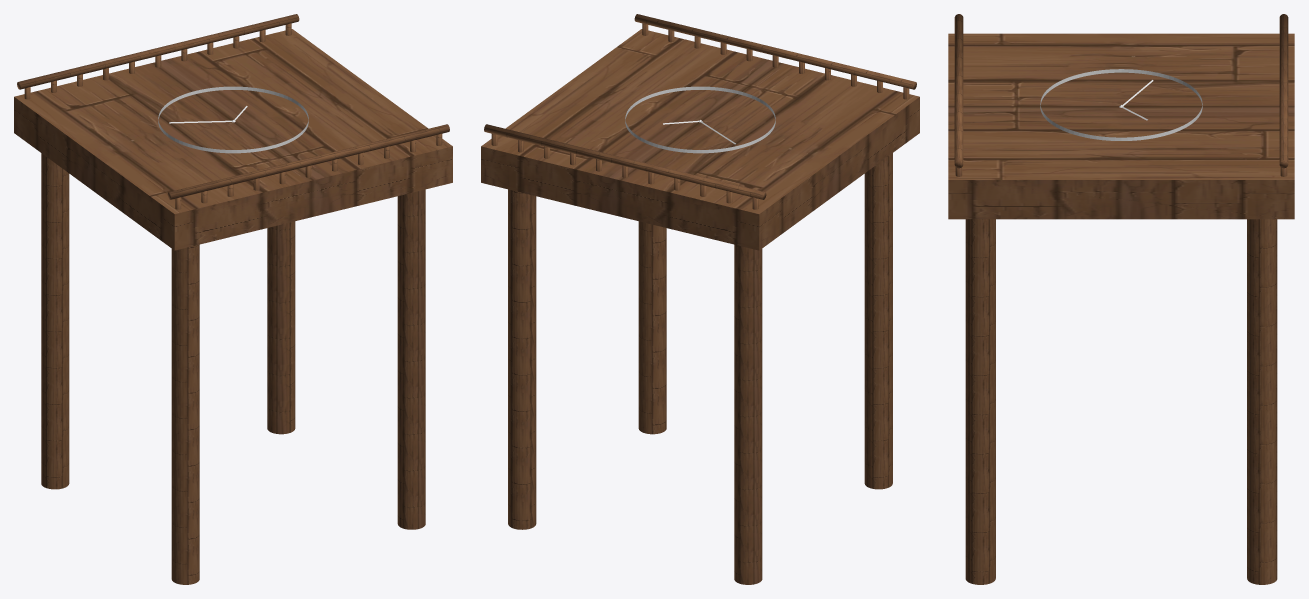
File: Slow16.fbx
3 renders of one model, left to right at view 1: azimuth 30°, elevation 25°; view 2: azimuth 150°, elevation 25°; view 3: azimuth 270°, elevation 25°, orthographic. The views are drawn at different scales.
Visible parts, largest first — view 1: Ground, pillar.004, Clock; view 2: Ground, pillar.004, Clock; view 3: Ground, pillar.004, Clock.
Boxes of the visible parts, left/top/right/bottom form: Ground: left=14, top=29, right=452, bottom=250; pillar.004: left=17, top=14, right=449, bottom=584; Clock: left=158, top=86, right=308, bottom=153; Ground: left=481, top=29, right=919, bottom=250; pillar.004: left=484, top=14, right=916, bottom=584; Clock: left=625, top=86, right=775, bottom=153; Ground: left=948, top=33, right=1294, bottom=219; pillar.004: left=954, top=14, right=1288, bottom=584; Clock: left=1040, top=69, right=1202, bottom=140.
Bounding box in the file's own units: 1600 × 2200 × 1600.
